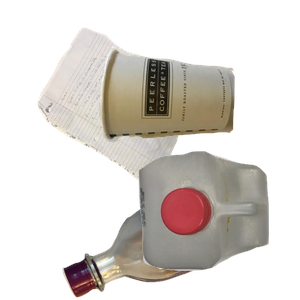glass: (60, 180, 300, 300)
paper: (35, 25, 232, 204)
plastic: (136, 149, 300, 300)
trash: (95, 44, 300, 180)
